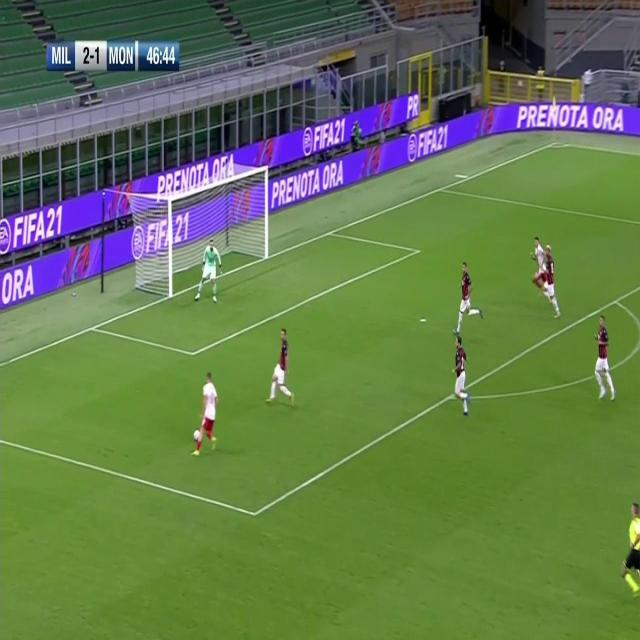ball: (192, 427, 202, 442)
goalkeeper: (195, 237, 223, 303)
player: (266, 327, 296, 409), (454, 260, 485, 334), (194, 371, 220, 458), (593, 314, 617, 404), (453, 333, 473, 419), (542, 241, 562, 318), (530, 236, 544, 296)
referee: (620, 499, 640, 599)
